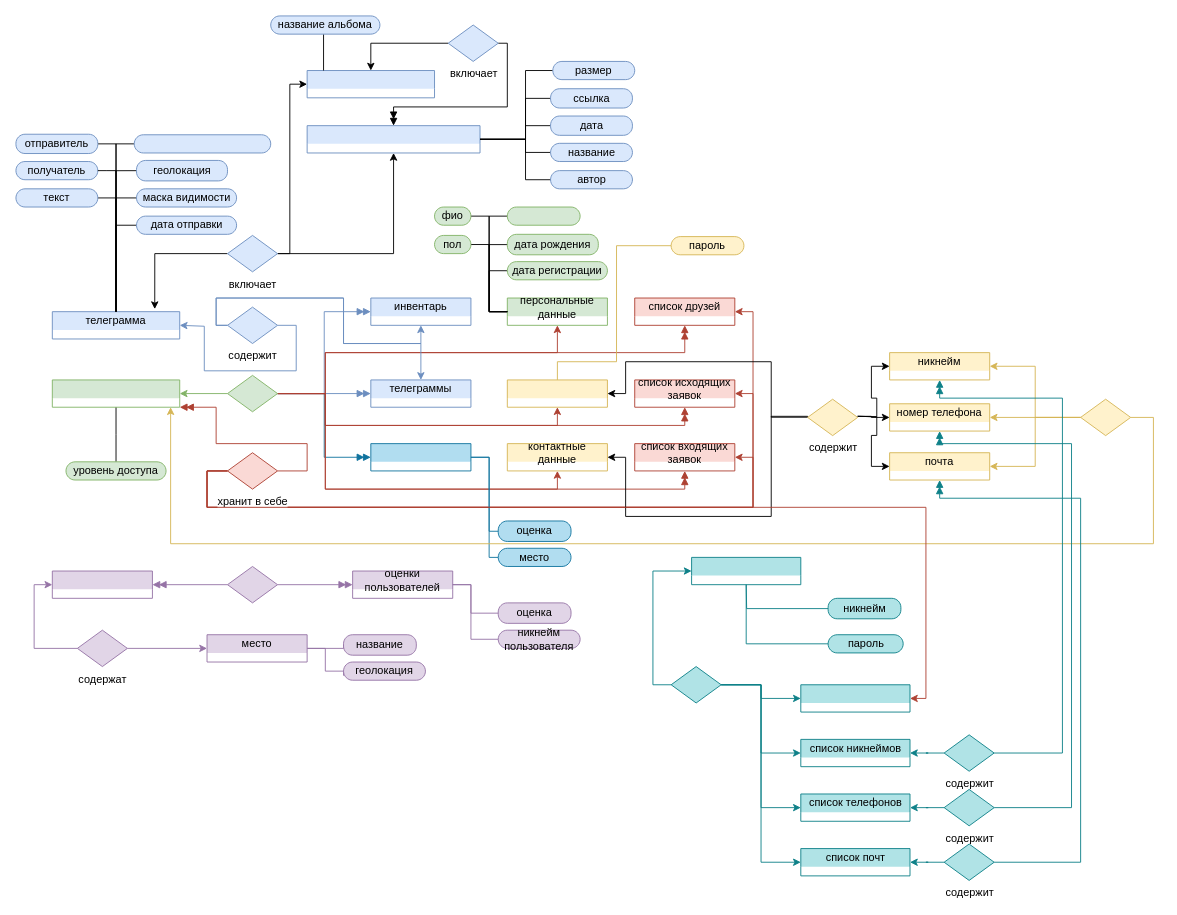
The diagram is 1177 pixels wide and 915 high, and some of its shapes have lost their labels. Each missing label, with the box of its shape:
авторизационные данные: (506, 379, 607, 407)
администраторская панель: (691, 556, 801, 585)
альбом: (306, 70, 435, 98)
идентификатор контента: (133, 134, 271, 153)
имеет: (227, 374, 278, 412)
имеет доступ к: (670, 666, 721, 703)
имеют: (227, 566, 278, 603)
контент(аудио видео фото): (306, 125, 480, 153)
места: (51, 570, 152, 598)
о себе: (506, 206, 580, 225)
оценки мест: (370, 443, 471, 471)
пользователь: (51, 379, 180, 407)
список id пользователей: (800, 684, 910, 712)
ссылается на: (1080, 398, 1131, 436)
